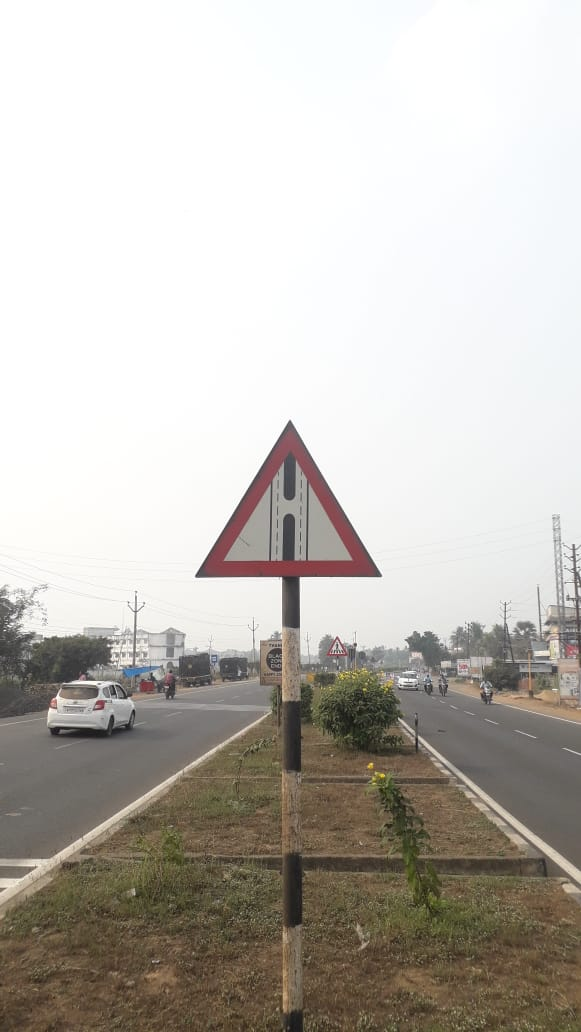highway go straight: (189, 397, 392, 639)
